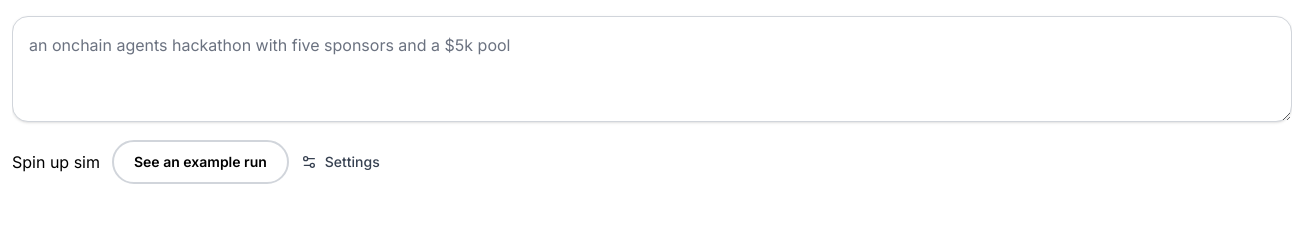
Test: HeroPrompt › self-managed POST (no onSubmit) › surfaces a network failure as the make demo hint
Replace the text in the text box named "Describe the hackathon you want" with "a tiny test sim" at point(652, 69), box [12,16,1292,122]
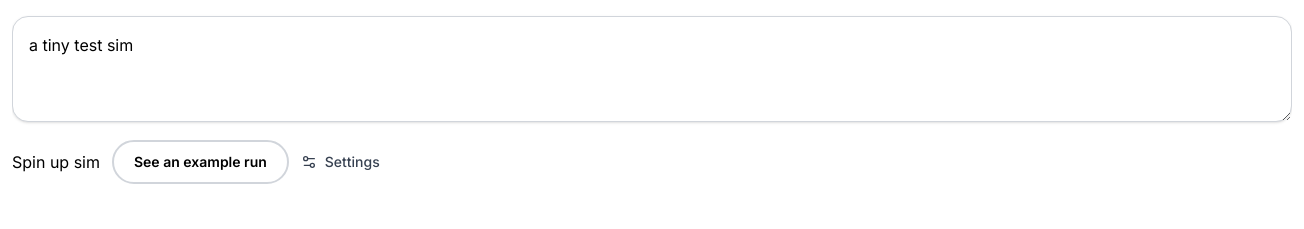
Click the button "Spin up sim" at point(56, 162), box [12,150,100,174]
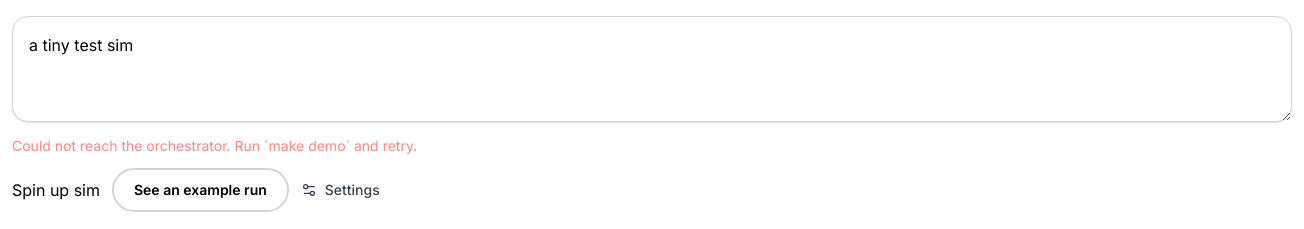
Check: the message shows "Could not reach the orchestrator", box [12,137,417,154]
